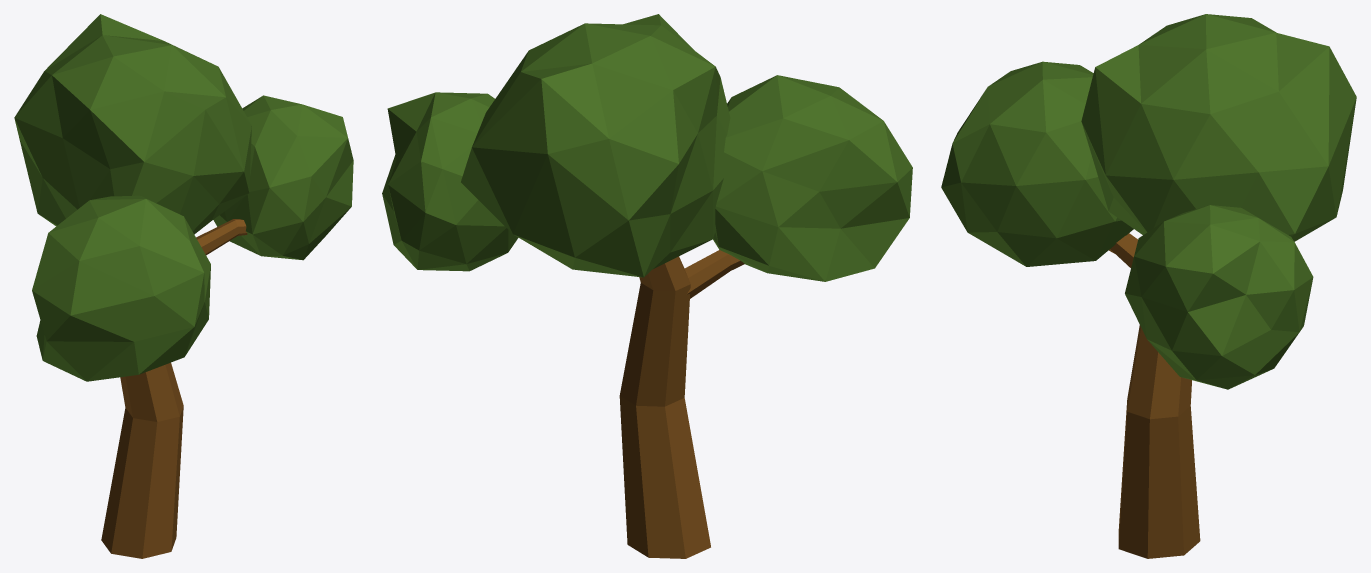
File: Tree1.fbx
3 views of the same model, side by side, from view 1: azimuth 30°, elevation 25°; view 2: azimuth 150°, elevation 25°; view 3: azimuth 270°, elevation 25° (orthographic). The views are drawn at different scales.
Visible parts, largest first — view 1: Tree; view 2: Tree; view 3: Tree.
Boxes of the visible parts, x1,y1,x2,y2 form: Tree: (14, 14, 353, 558); Tree: (382, 14, 912, 558); Tree: (941, 14, 1356, 558).
Size of the model in its own units: 523 by 611 by 438.
